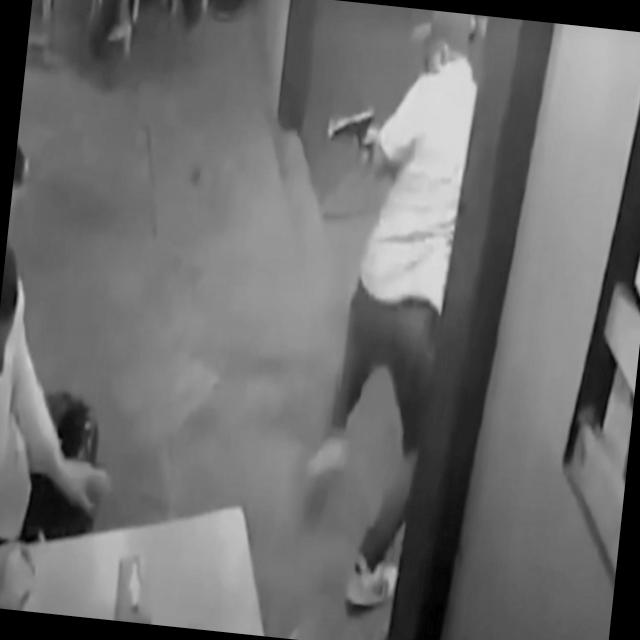gun: (326, 103, 380, 169)
person with a gun: (278, 1, 484, 620)
